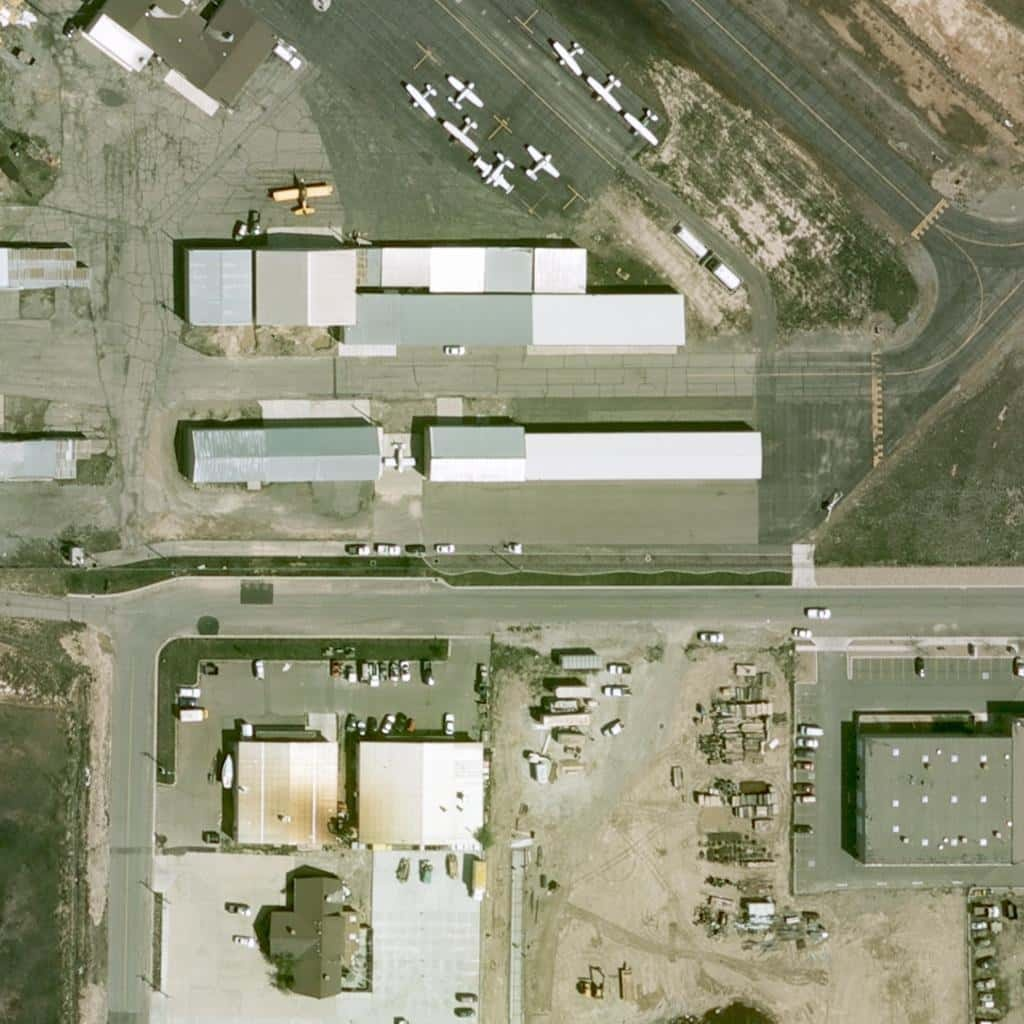plane: (273, 175, 333, 215), (475, 152, 514, 198), (402, 80, 442, 117), (442, 117, 482, 154), (445, 73, 485, 110), (522, 145, 560, 183), (549, 38, 587, 76), (622, 107, 660, 145), (584, 72, 622, 110)
